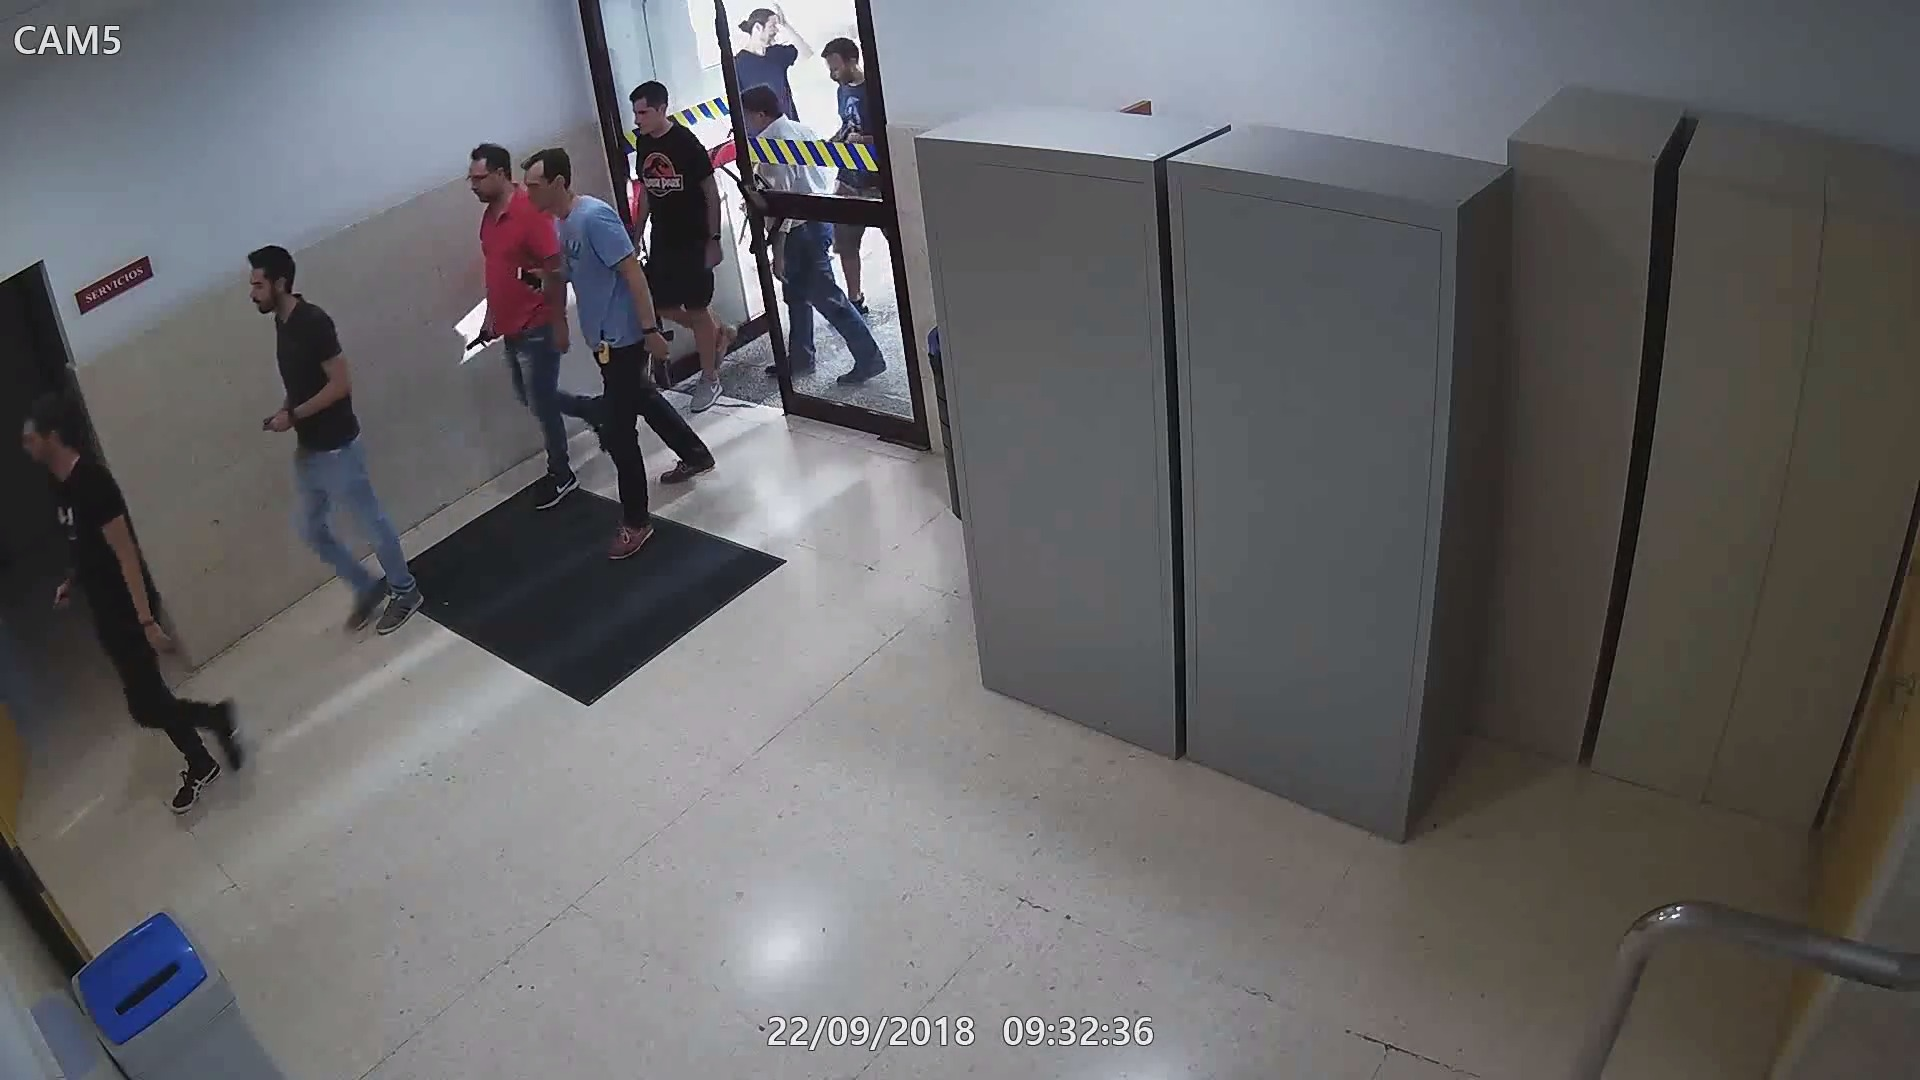knife: (651, 334, 678, 388)
pistol: (36, 578, 79, 629), (253, 404, 294, 442), (646, 326, 675, 378), (460, 316, 498, 353)
